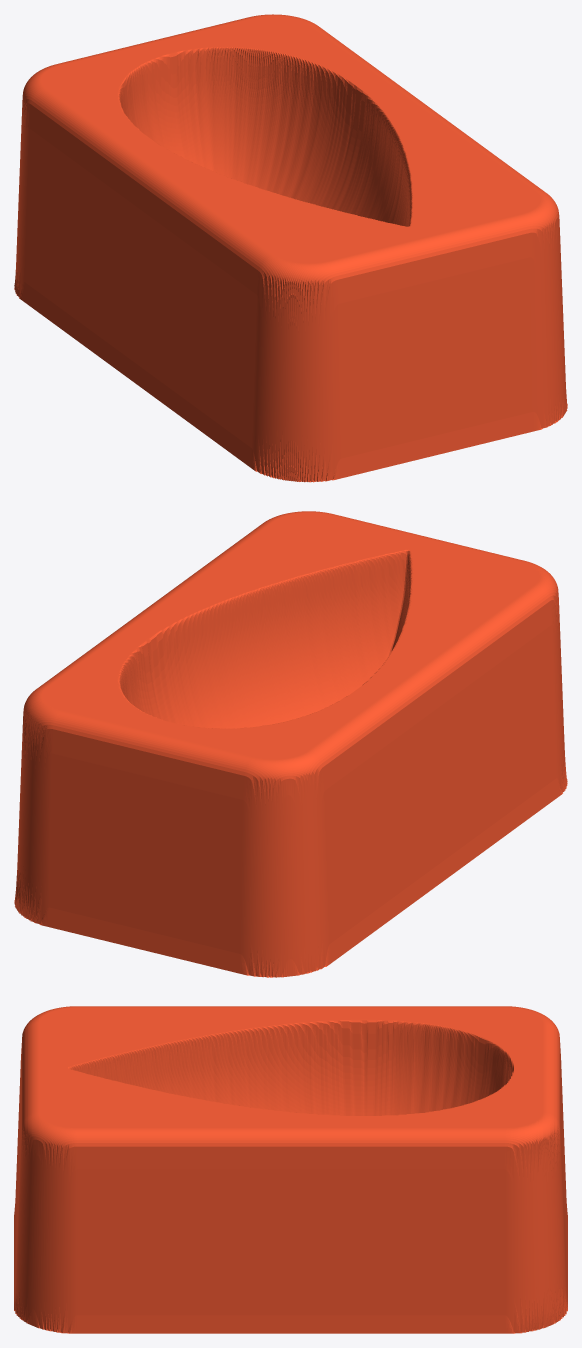
The model's file is mold.glb.
3 renders of one model, top to bottom at view 1: azimuth 30°, elevation 25°; view 2: azimuth 150°, elevation 25°; view 3: azimuth 270°, elevation 25°, orthographic. The views are drawn at different scales.
Visible parts, largest first — view 1: geometry_0; view 2: geometry_0; view 3: geometry_0.
Part boxes in pixels (x1=…): geometry_0: x1=14, y1=14, x2=567, y2=482; geometry_0: x1=14, y1=511, x2=567, y2=977; geometry_0: x1=14, y1=1006, x2=567, y2=1333.
Size of the model in its own units: 0.0482 by 0.031 by 0.0798.
